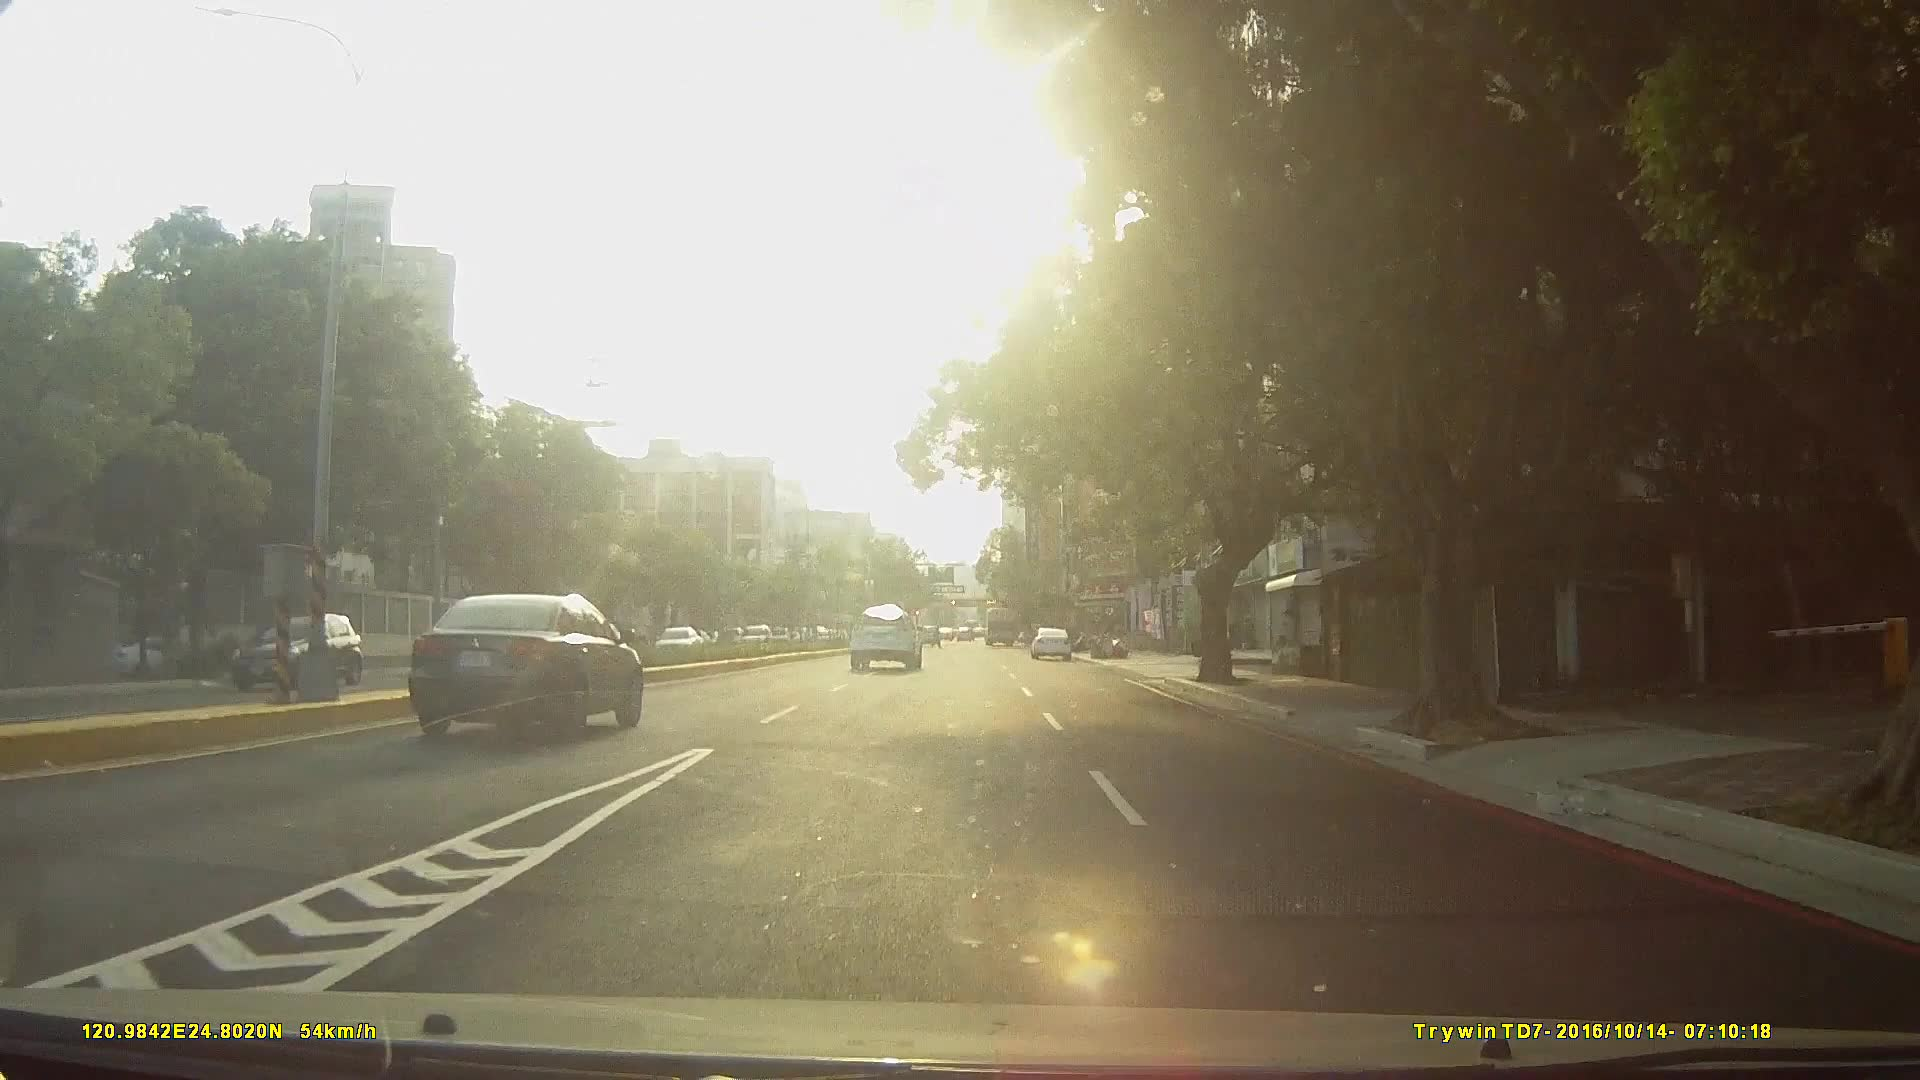vehicle: (411, 591, 647, 744), (196, 615, 371, 709), (847, 607, 924, 674), (1029, 626, 1072, 665), (982, 605, 1019, 647)
